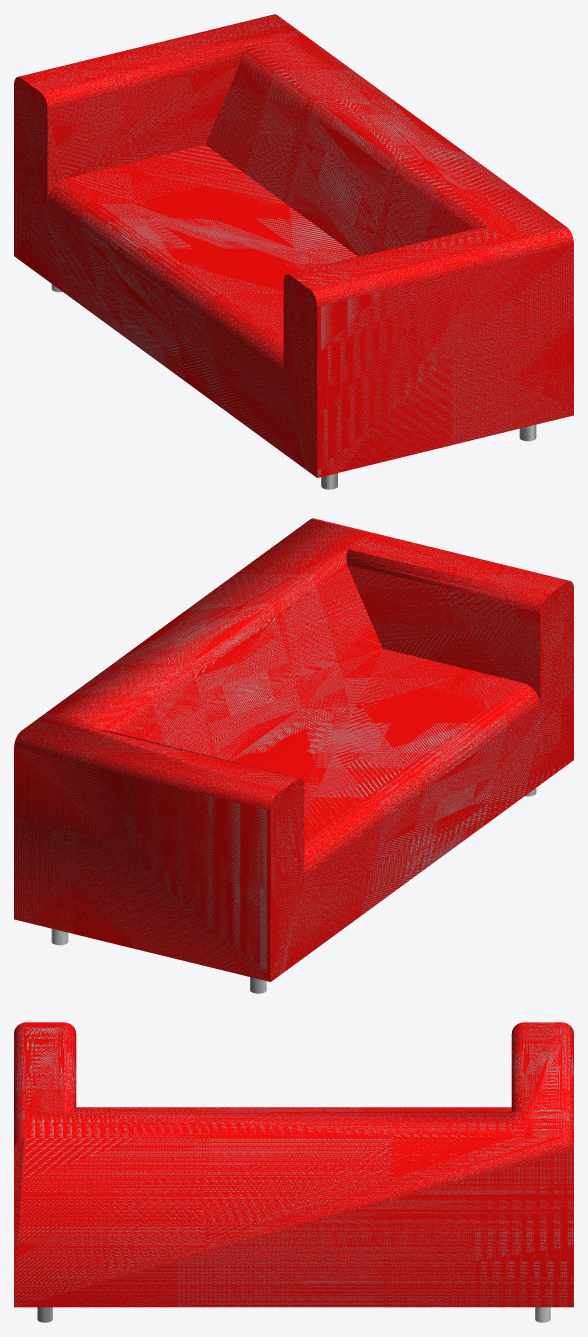
Rendered from sofa.dae.
3 renders of one model, top to bottom at view 1: azimuth 30°, elevation 25°; view 2: azimuth 150°, elevation 25°; view 3: azimuth 270°, elevation 25°, orthographic. The views are drawn at different scales.
Visible parts, largest first — view 1: instance_0; view 2: instance_0; view 3: instance_0.
Boxes of the visible parts, left/top/right/bottom form: instance_0: left=14, top=14, right=573, bottom=477; instance_0: left=14, top=518, right=573, bottom=981; instance_0: left=14, top=1022, right=573, bottom=1307.
Bounding box in the file's own units: 34.65 × 70.87 × 27.17.
Materials: 4 (1 with a texture image).
